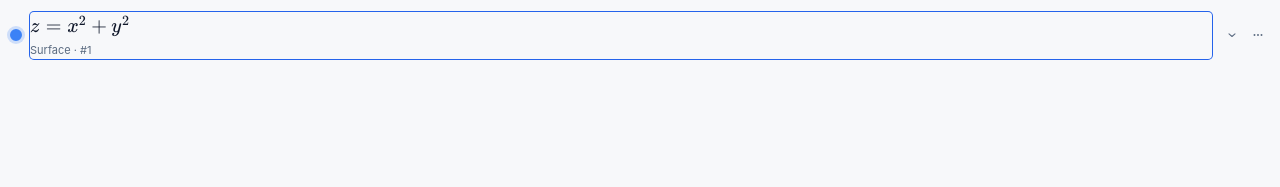
Test: ObjectRow workspace behavior › selects via keyboard-accessible row button without nested interactivity
Click the button with aria-label "Select Surface #1": (61, 50) [30, 12, 1212, 59]
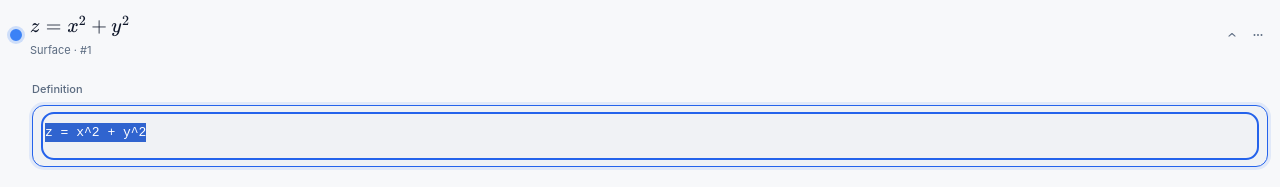
Now the field named "Equation" is shown, box [45, 116, 1211, 148]
